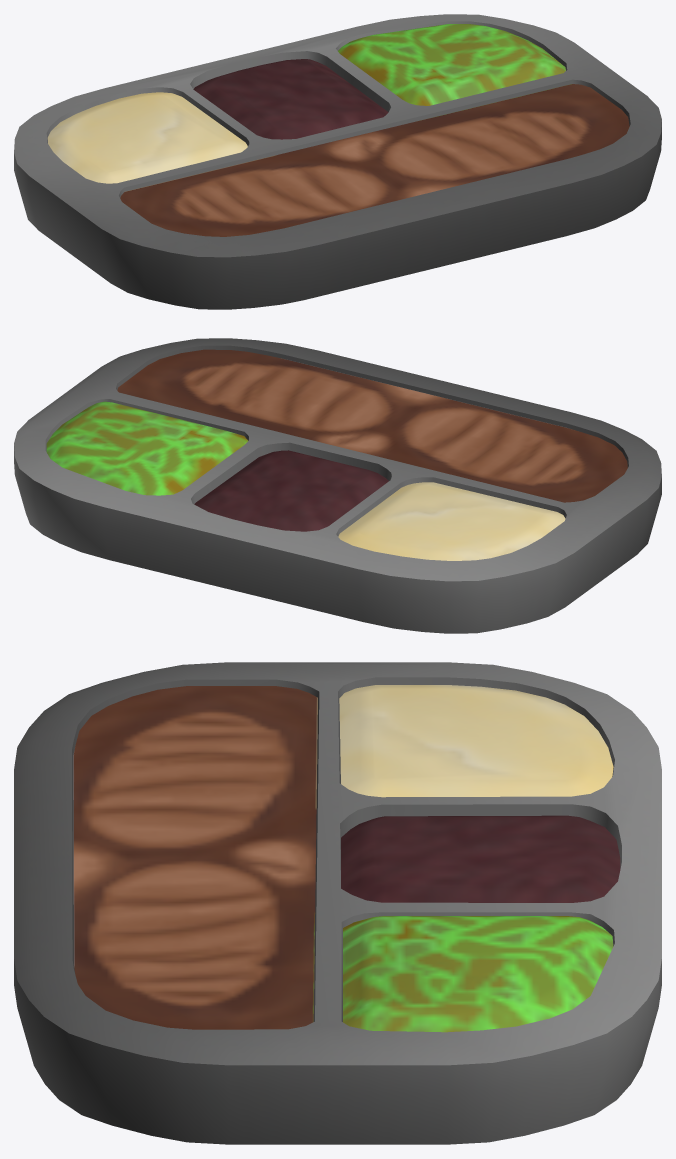
File: MicrowaveMeal.FBX
3 renders of one model, top to bottom at view 1: azimuth 30°, elevation 25°; view 2: azimuth 150°, elevation 25°; view 3: azimuth 270°, elevation 25°, orthographic. The views are drawn at different scales.
Parts seen in each view (by area): view 1: Microwave meal; view 2: Microwave meal; view 3: Microwave meal.
Boxes of the visible parts, x1,y1,x2,y2 form: Microwave meal: (14, 14, 661, 309); Microwave meal: (14, 338, 661, 633); Microwave meal: (14, 662, 661, 1144).
Size of the model in its own units: 49 by 5.97 by 33.3.
1 material, 1 textured.
